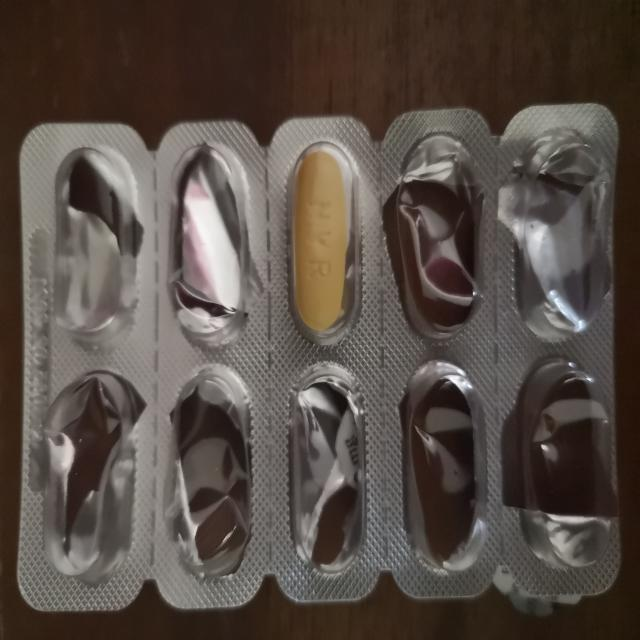Empty: (508, 356, 615, 575), (37, 368, 143, 588), (392, 355, 497, 574), (508, 128, 611, 346), (43, 132, 141, 355), (277, 362, 378, 578), (388, 130, 489, 343), (170, 140, 258, 352), (164, 364, 245, 580)
Pill: (279, 141, 363, 343)
